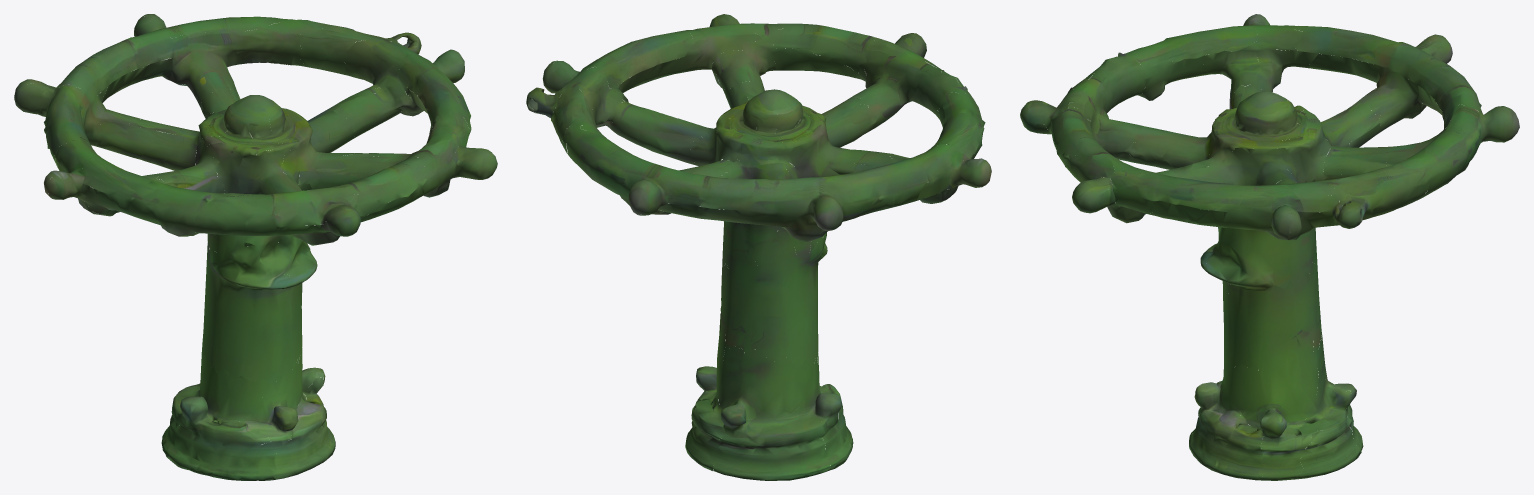
File: prop_coolant_pipe_wheel_02.glb
The picture shows the model from 3 angles, left to right: view 1: azimuth 30°, elevation 25°; view 2: azimuth 150°, elevation 25°; view 3: azimuth 270°, elevation 25°; orthographic projection.
Parts seen in each view (by area): view 1: tripo_node_856d3dbf-426f-45c2-8aa5-c7d2204344a3; view 2: tripo_node_856d3dbf-426f-45c2-8aa5-c7d2204344a3; view 3: tripo_node_856d3dbf-426f-45c2-8aa5-c7d2204344a3.
Part boxes in pixels (x1,y1,x2,y2): tripo_node_856d3dbf-426f-45c2-8aa5-c7d2204344a3: [14, 14, 497, 480]; tripo_node_856d3dbf-426f-45c2-8aa5-c7d2204344a3: [526, 14, 991, 480]; tripo_node_856d3dbf-426f-45c2-8aa5-c7d2204344a3: [1020, 14, 1519, 480].
Size of the model in its own units: 1 by 0.7846 by 0.999.
Materials: 1 (1 with a texture image).
